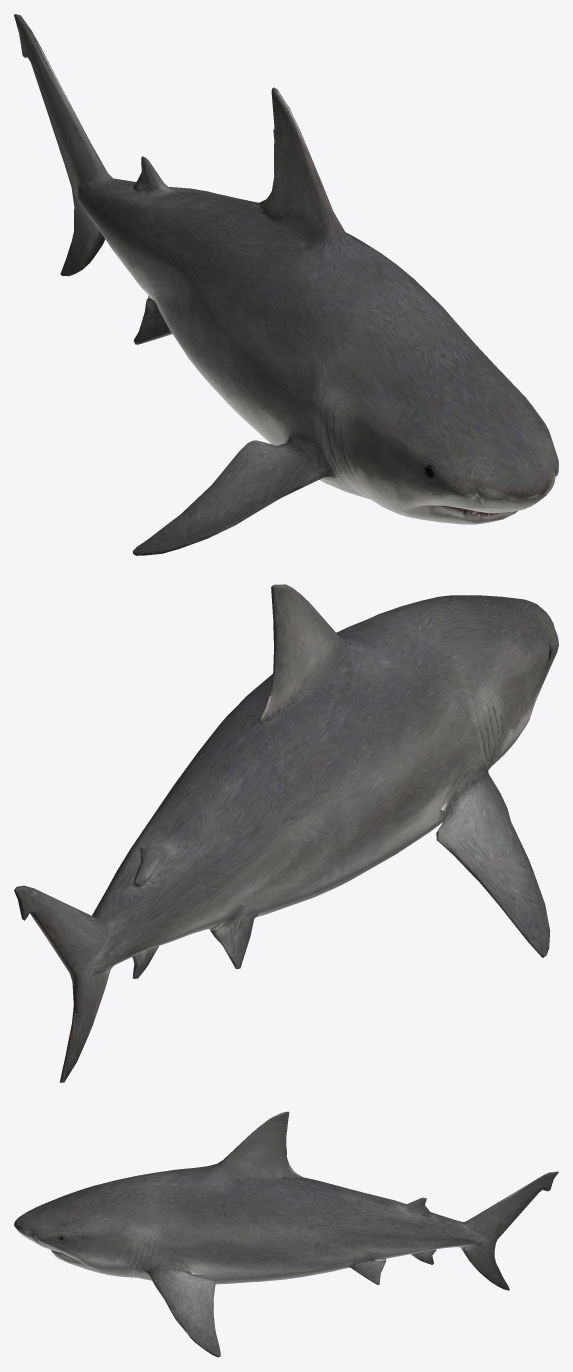
File: bullenhai.glb
3 views of the same model, one above another, from view 1: azimuth 30°, elevation 25°; view 2: azimuth 150°, elevation 25°; view 3: azimuth 270°, elevation 25° (orthographic). The views are drawn at different scales.
Size of the model in its own units: 0.8726 by 0.745 by 1.9.
Materials: 1 (1 with a texture image).
